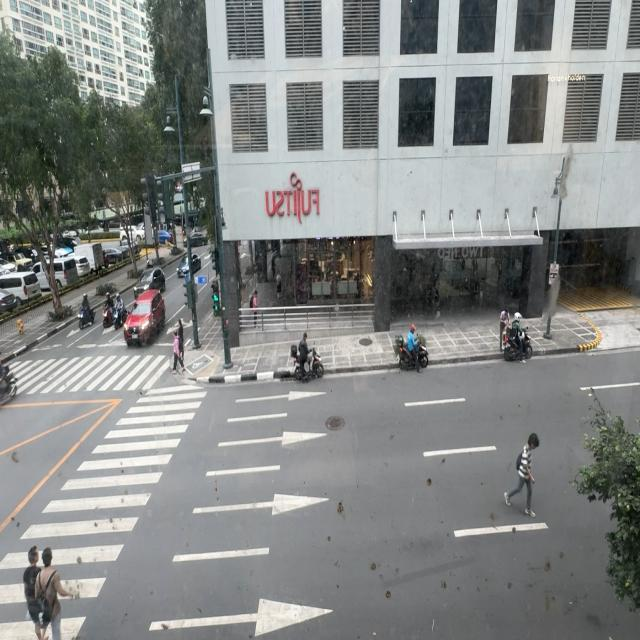jaywalking: (504, 432, 542, 517)
waiting: (173, 330, 180, 378), (176, 319, 185, 354)
